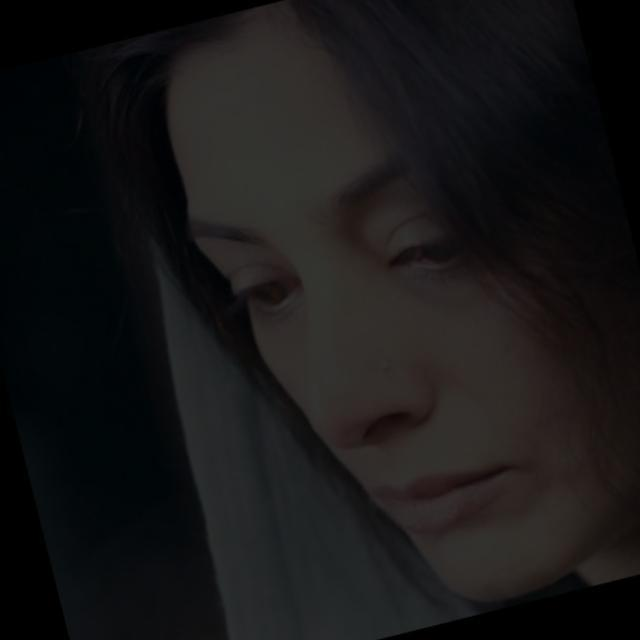Sad: (49, 79, 619, 577)
